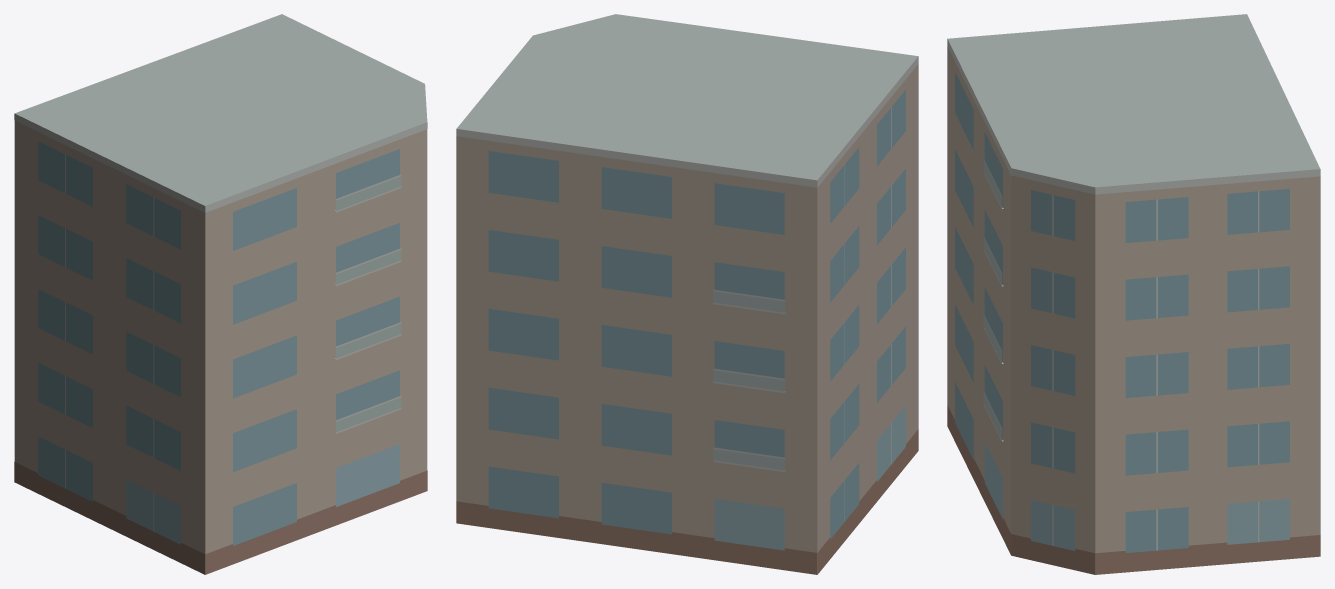
File: survey-upis-32990325.glb
3 renders of one model, left to right at view 1: azimuth 30°, elevation 25°; view 2: azimuth 150°, elevation 25°; view 3: azimuth 270°, elevation 25°, orthographic. The views are drawn at different scales.
Parts seen in each view (by area): view 1: survey-upis-32990325.tmp; view 2: survey-upis-32990325.tmp; view 3: survey-upis-32990325.tmp.
Part boxes in pixels (x1,y1,x2,y2): survey-upis-32990325.tmp: (14, 14, 427, 574); survey-upis-32990325.tmp: (456, 14, 918, 574); survey-upis-32990325.tmp: (947, 14, 1320, 574).
Size of the model in its own units: 12.58 by 13.1 by 11.44.
